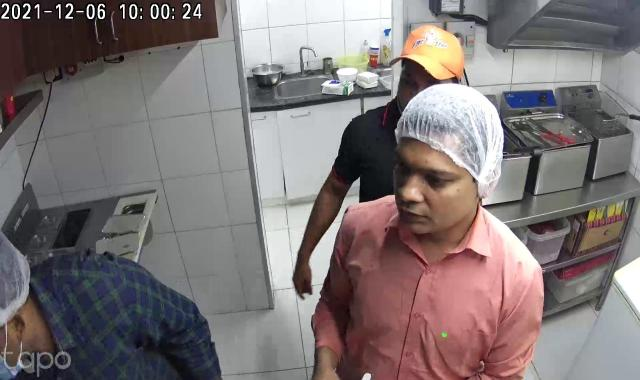hairnet: (398, 83, 506, 202), (0, 225, 34, 327)
no_hairnet: (394, 26, 479, 86)
